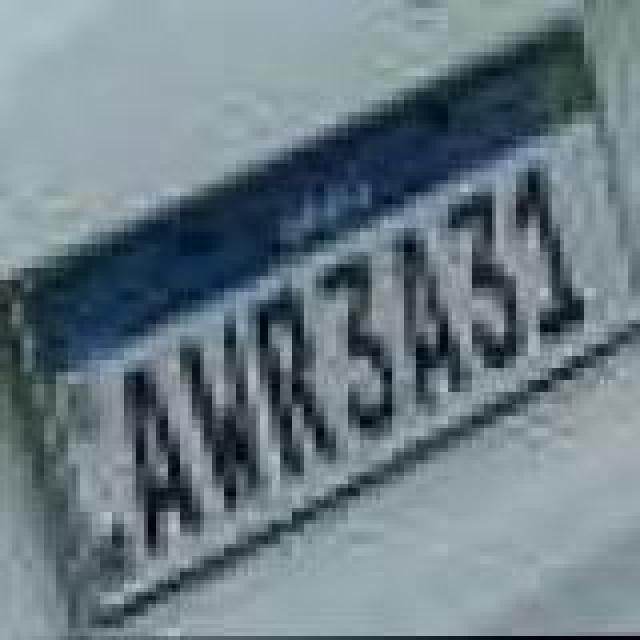1: (512, 166, 592, 354)
3: (320, 256, 400, 444), (448, 192, 528, 380)
A: (114, 364, 206, 564), (394, 224, 470, 412)
R: (250, 290, 342, 490)
W: (170, 314, 262, 514)
